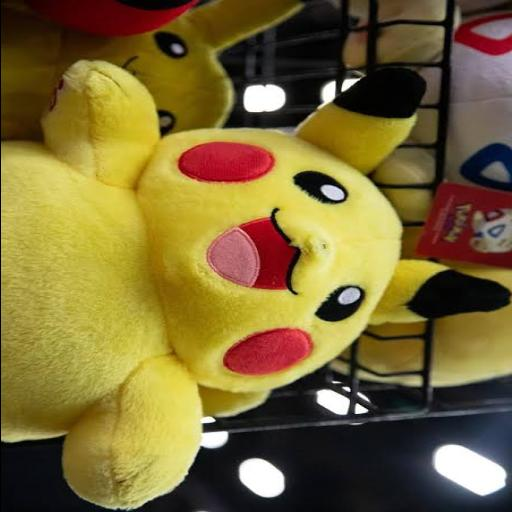Pikachu: (0, 60, 510, 510), (0, 0, 313, 140)
